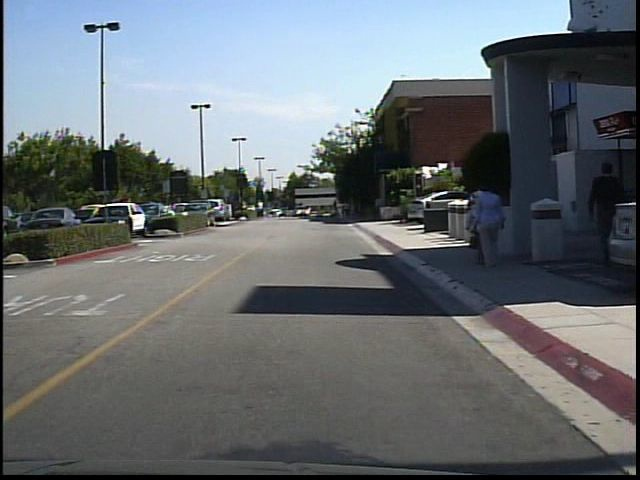person: (584, 154, 626, 266), (472, 180, 505, 269), (466, 180, 487, 269), (333, 198, 347, 223), (257, 197, 269, 221)
